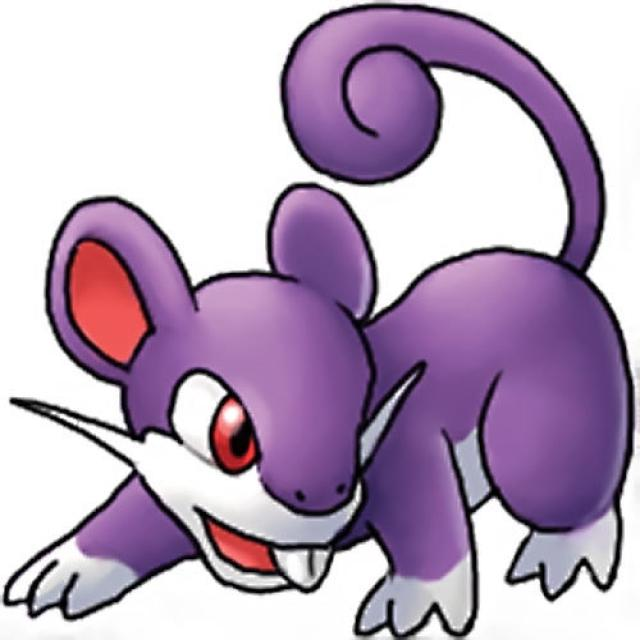Rattata: (35, 168, 625, 639)
